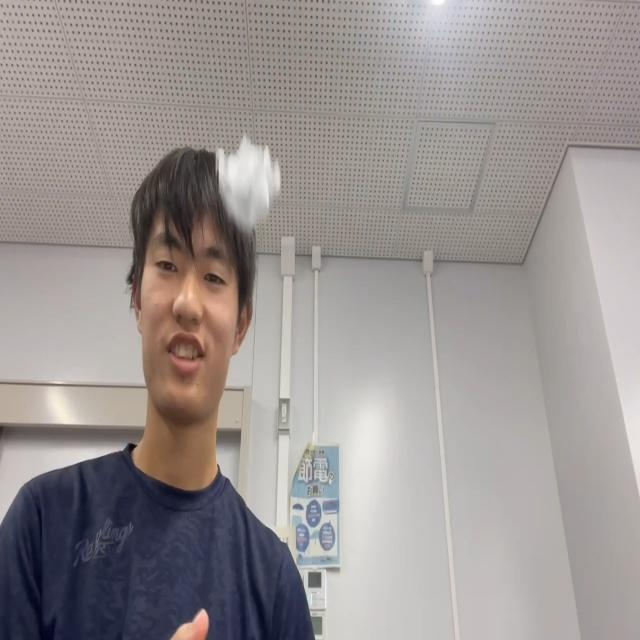paper: (215, 135, 281, 231)
